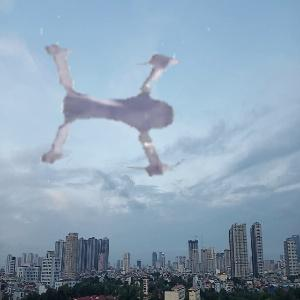drone: (31, 10, 236, 215)
